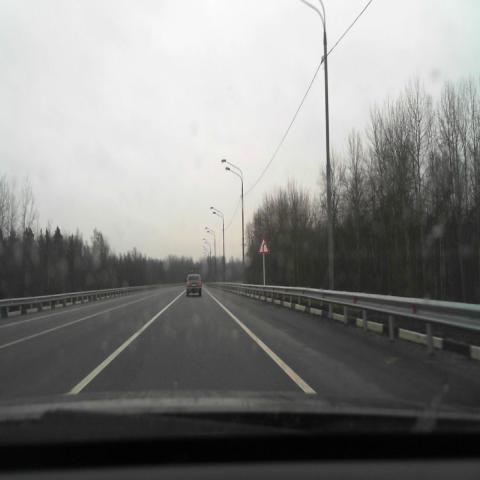1_11: (258, 236, 270, 254)
